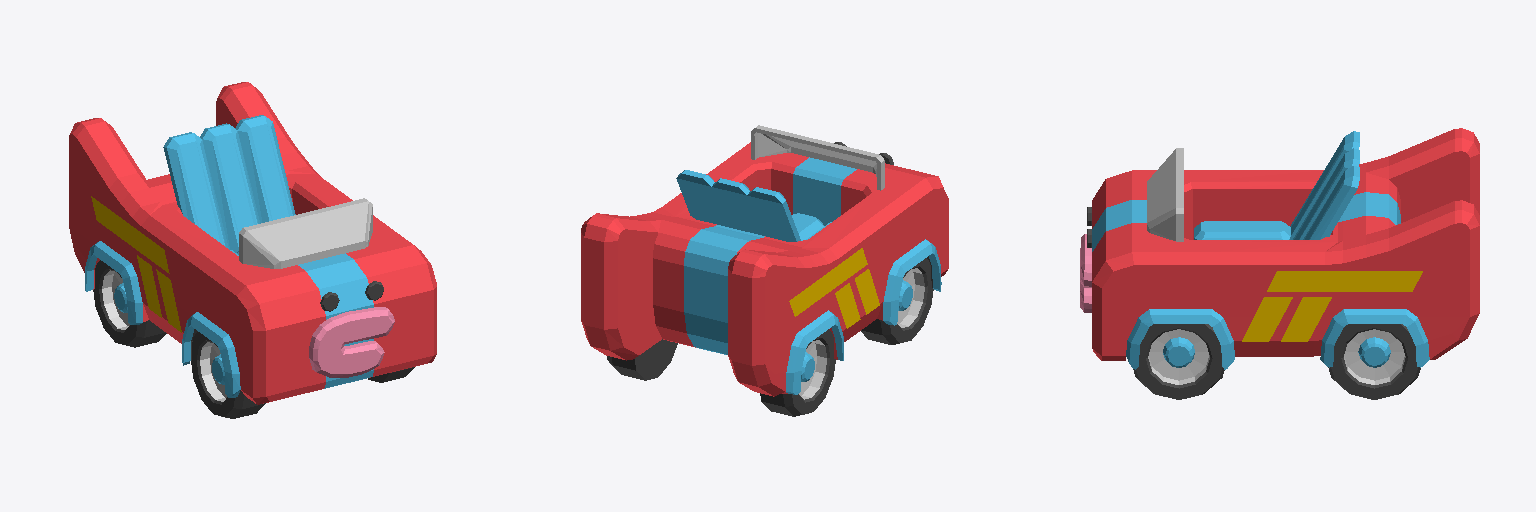
3 views of the same model, side by side, from view 1: azimuth 30°, elevation 25°; view 2: azimuth 150°, elevation 25°; view 3: azimuth 270°, elevation 25° (orthographic).
Parts seen in each view (by area): view 1: Car, Car_Windshield; view 2: Car, Car_Windshield; view 3: Car, Car_Windshield.
Part boxes in pixels (x1,y1,x2,y2): Car: (69,82,436,418); Car_Windshield: (239,198,372,268); Car: (581,142,948,416); Car_Windshield: (751,125,884,190); Car: (1080,128,1479,399); Car_Windshield: (1147,148,1183,241).
Bounding box in the file's own units: 1.13 × 1.09 × 1.92.
Materials: 2 (1 with a texture image).